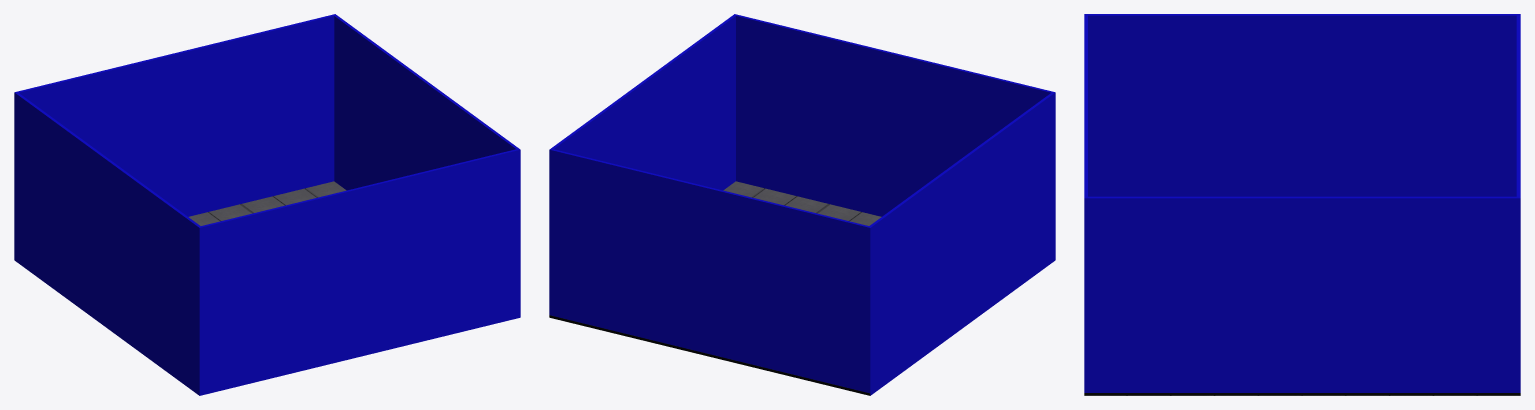
The model's file is room2.fbx.
The picture shows the model from 3 angles, left to right: view 1: azimuth 30°, elevation 25°; view 2: azimuth 150°, elevation 25°; view 3: azimuth 270°, elevation 25°; orthographic projection. The views are drawn at different scales.
Visible parts, largest first — view 1: Box401, Box402; view 2: Box401, Box402; view 3: Box401, Box402.
Boxes of the visible parts, left/top/right/bottom form: Box401: left=14, top=14, right=520, bottom=395; Box402: left=189, top=181, right=346, bottom=225; Box401: left=549, top=14, right=1055, bottom=395; Box402: left=549, top=181, right=881, bottom=395; Box401: left=1084, top=14, right=1520, bottom=392; Box402: left=1084, top=393, right=1520, bottom=395.
Bounding box in the file's own units: 400 × 201 × 400.
Materials: 2 (1 with a texture image).
